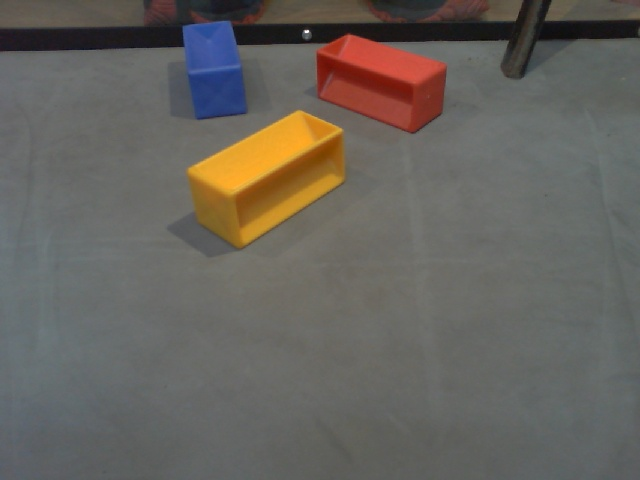BlueSample: (176, 18, 251, 120)
RedSample: (313, 31, 450, 135)
YellowSample: (182, 104, 347, 253)
